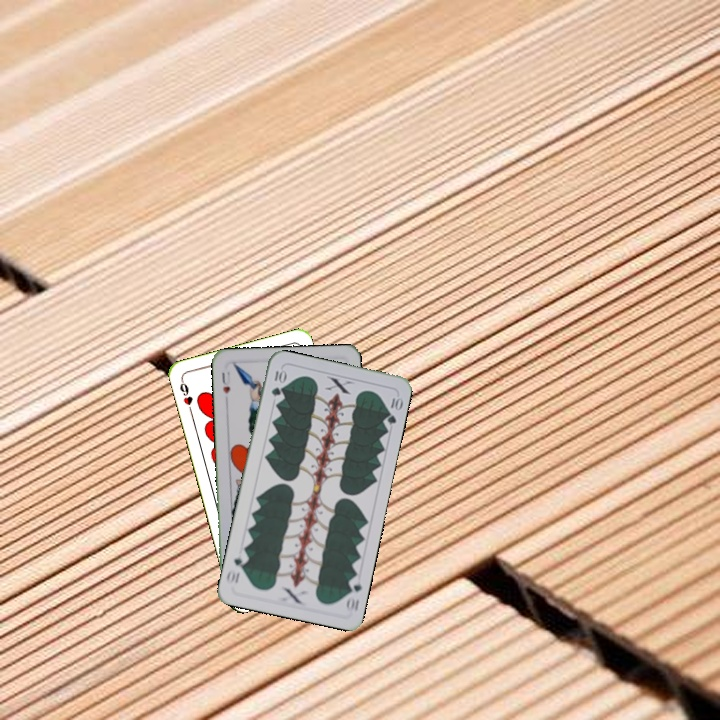G10: (342, 573, 364, 614), (267, 365, 287, 399)
H9: (176, 375, 195, 415)
HU: (217, 367, 233, 396)
